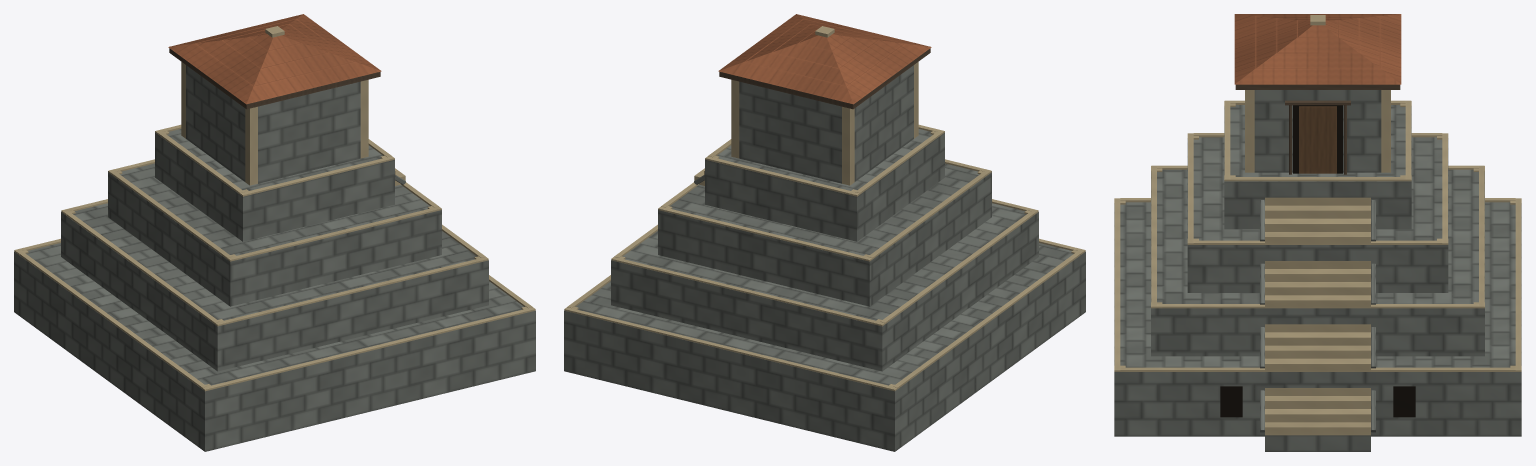
Rendered from temple.glb.
3 renders of one model, left to right at view 1: azimuth 30°, elevation 25°; view 2: azimuth 150°, elevation 25°; view 3: azimuth 270°, elevation 25°, orthographic. The views are drawn at different scales.
Visible parts, largest first — view 1: temple; view 2: temple; view 3: temple.
Part boxes in pixels (box(x1,y1,x2,y2)): temple: box(14, 14, 535, 451); temple: box(564, 14, 1085, 451); temple: box(1114, 14, 1521, 451).
Bounding box in the file's own units: 2.18 × 1.8 × 2.
1 material, 1 textured.
